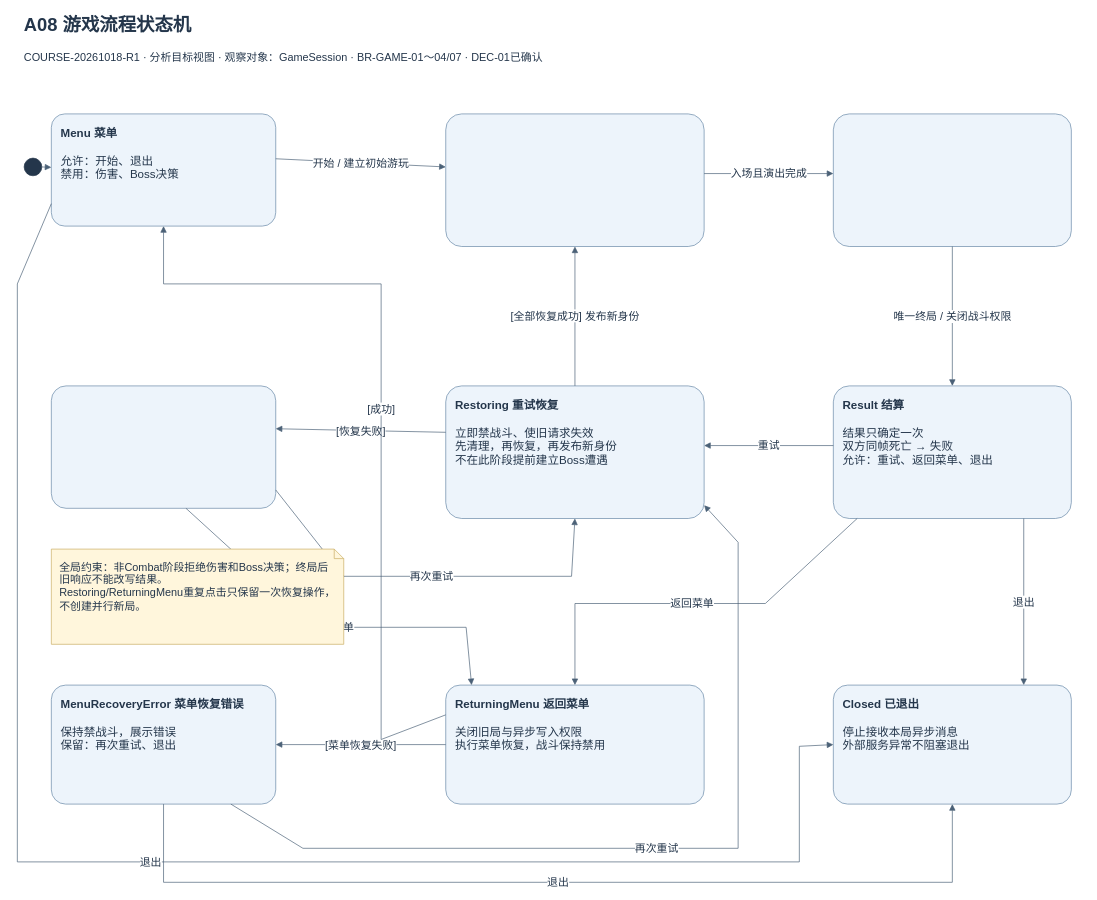
This 1097x900 diagram has some shape labels left out. The shapes that lost their labels are listed below. From the top down, each one's centre as x and y in pixels, then its label:
[574,180]: Opening 本局准备 / 入场演出 初始状态有效，新游玩身份已发布 入场后仅一次建立遭遇 演出完成前禁止战斗
[952,180]: Combat 战斗 允许战斗输入、伤害、有效决策 仅当前游玩/遭遇可写入 统一竞争终局并关闭权限
[163,446]: RecoveryError 恢复错误 保持禁战斗，展示错误 允许：再次重试、返回菜单
